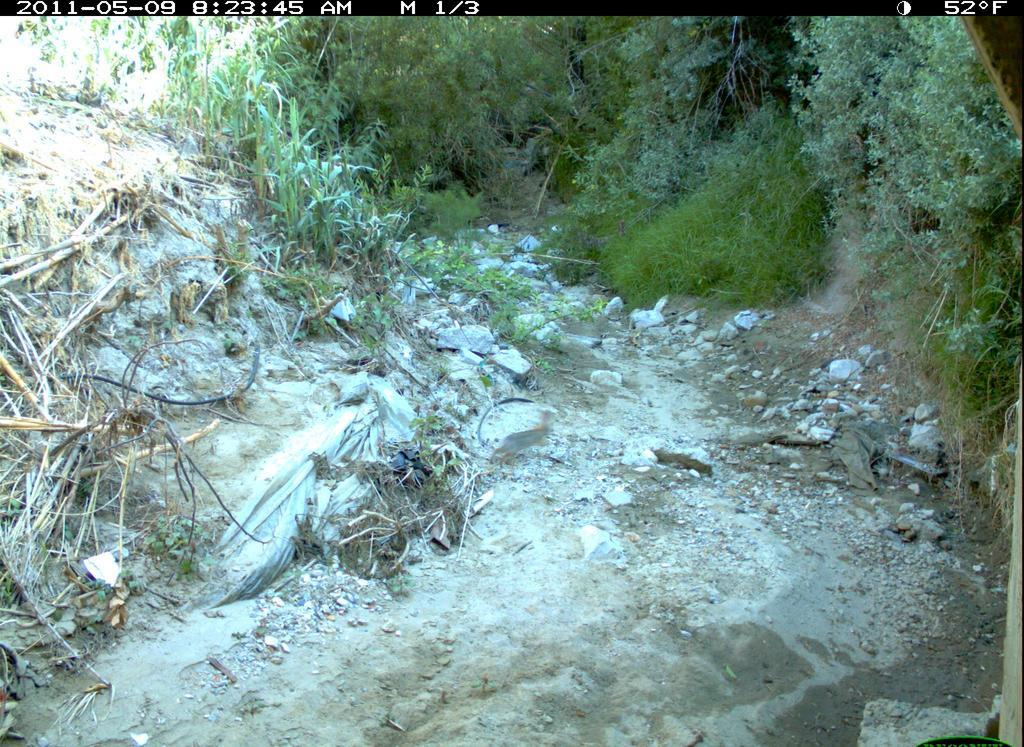rabbit: (488, 404, 566, 477)
